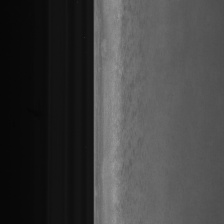silk_spot: (119, 41, 141, 186)
